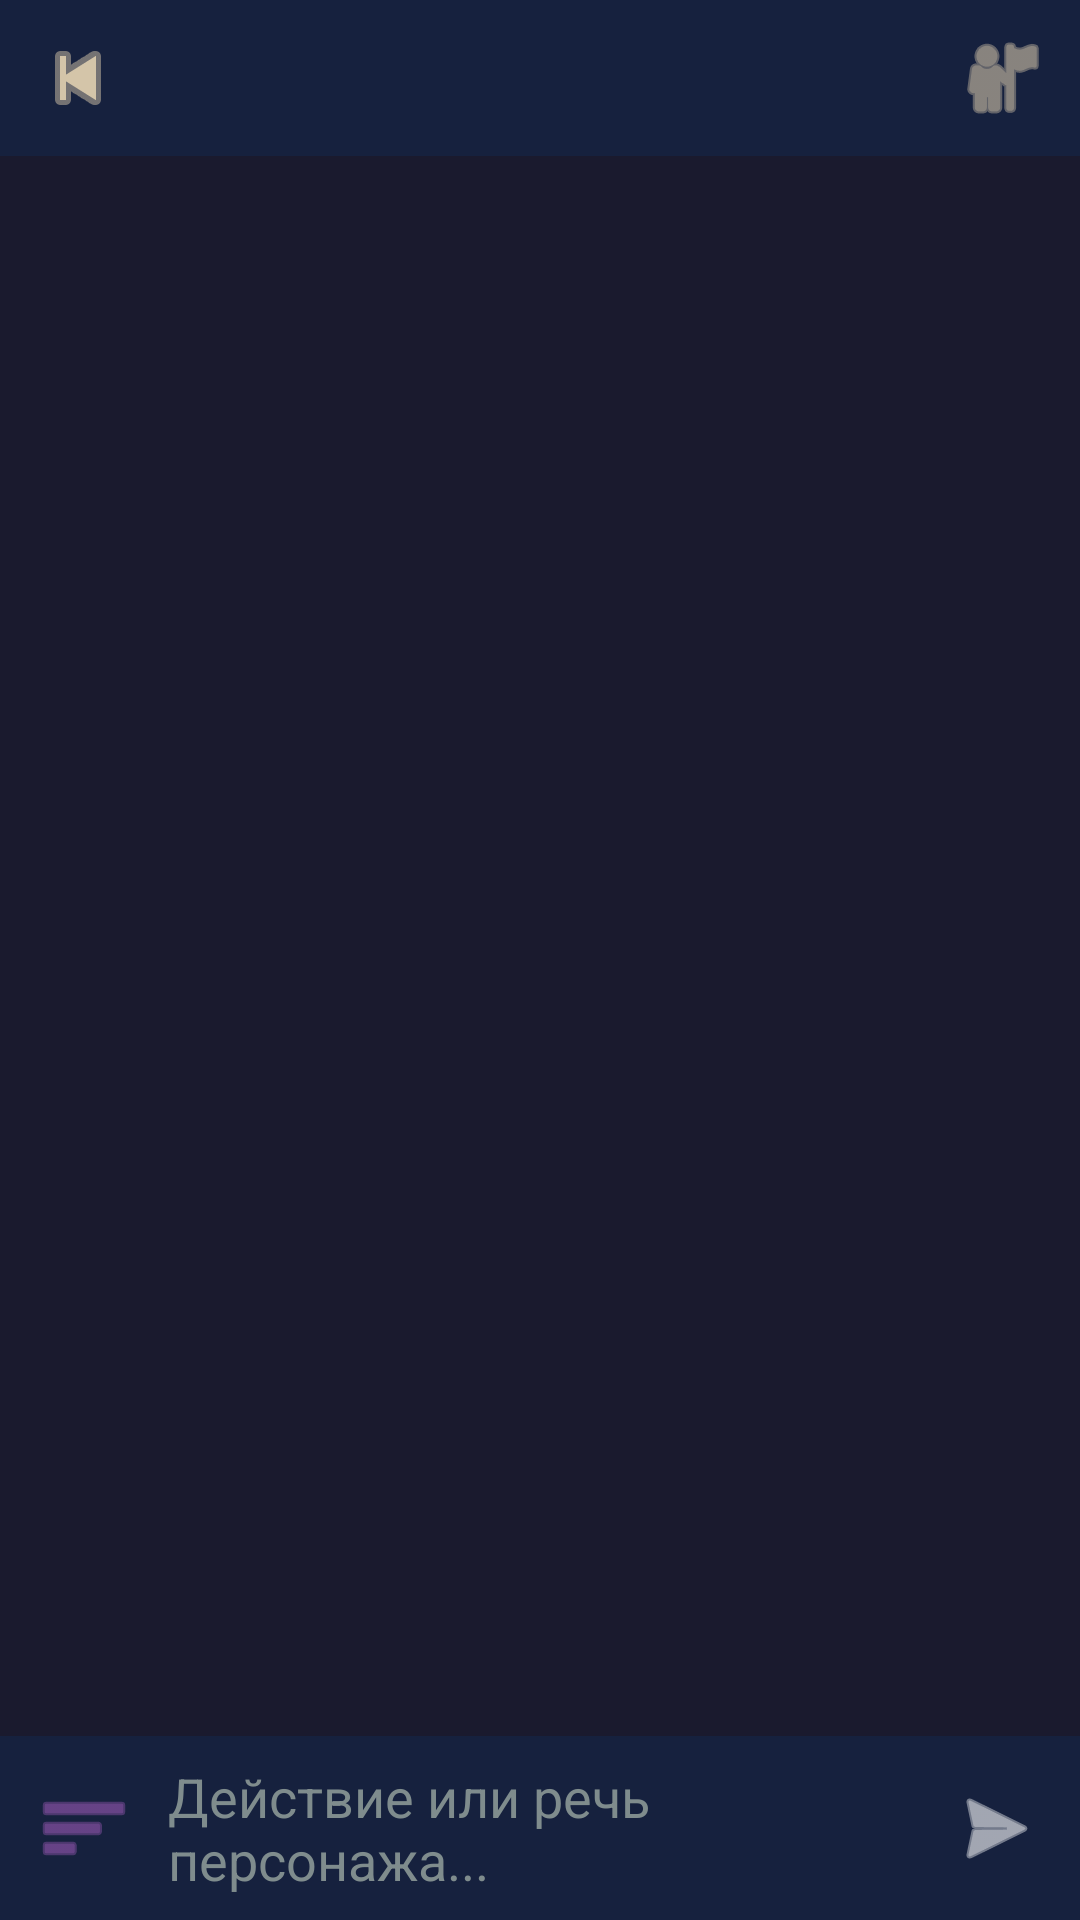

Icons on this 1080 x 1920 Android screen, each with the point to tap as (x=x, y=y):
myplaces: (x=1003, y=78)
previous: (x=78, y=78)
send: (x=997, y=1828)
sort by size: (x=84, y=1828)
